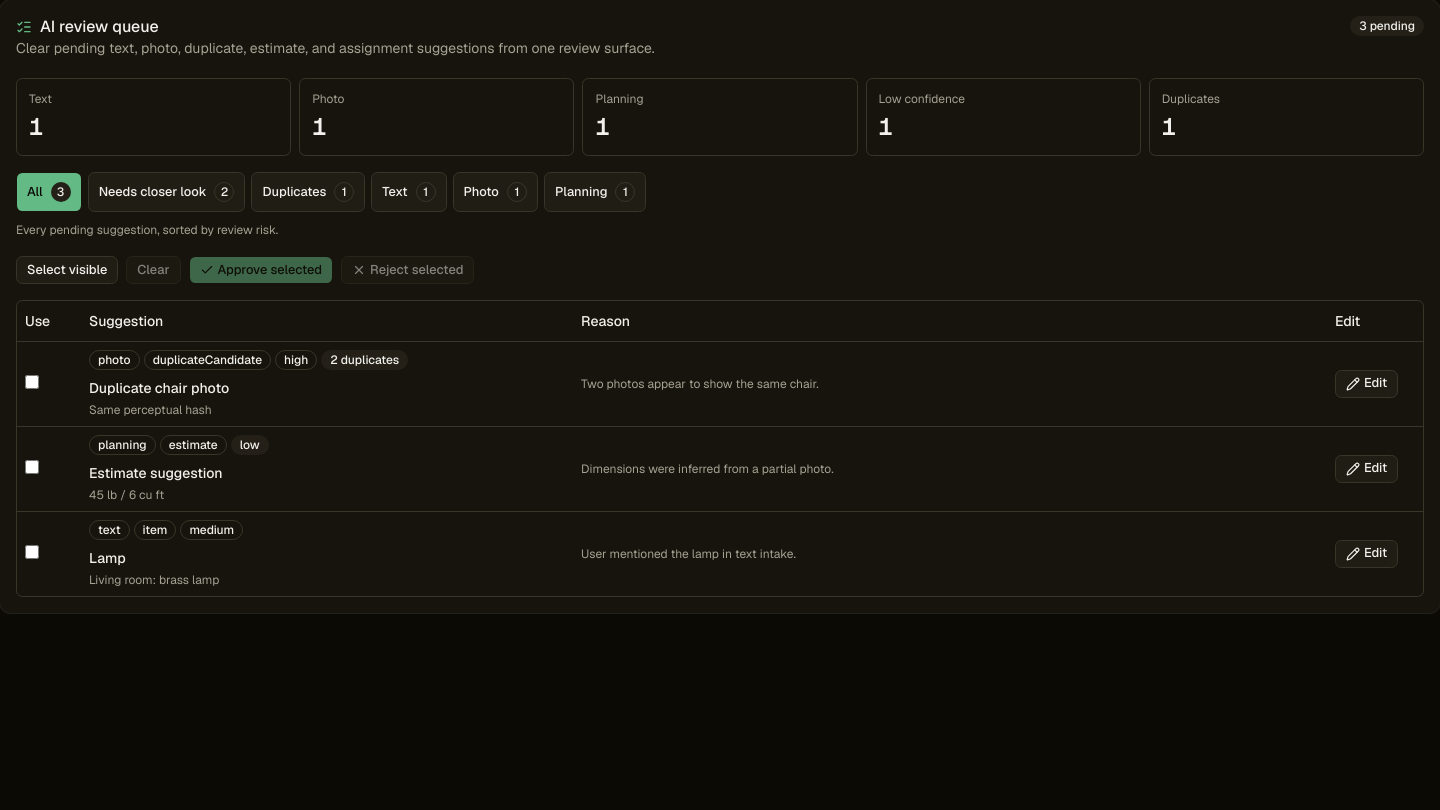
Test: AiReviewQueue responsive review surface › renders mobile review cards while keeping the desktop table controls
expect the column heading "Suggestion" is shown: met, box [81, 301, 573, 341]
expect the text "Every pending suggestion, sorted by review risk." is shown: met, box [16, 222, 278, 238]
Click the button with aria-label "Photo: 1 suggestion".
click(495, 192)  # box [453, 172, 538, 212]
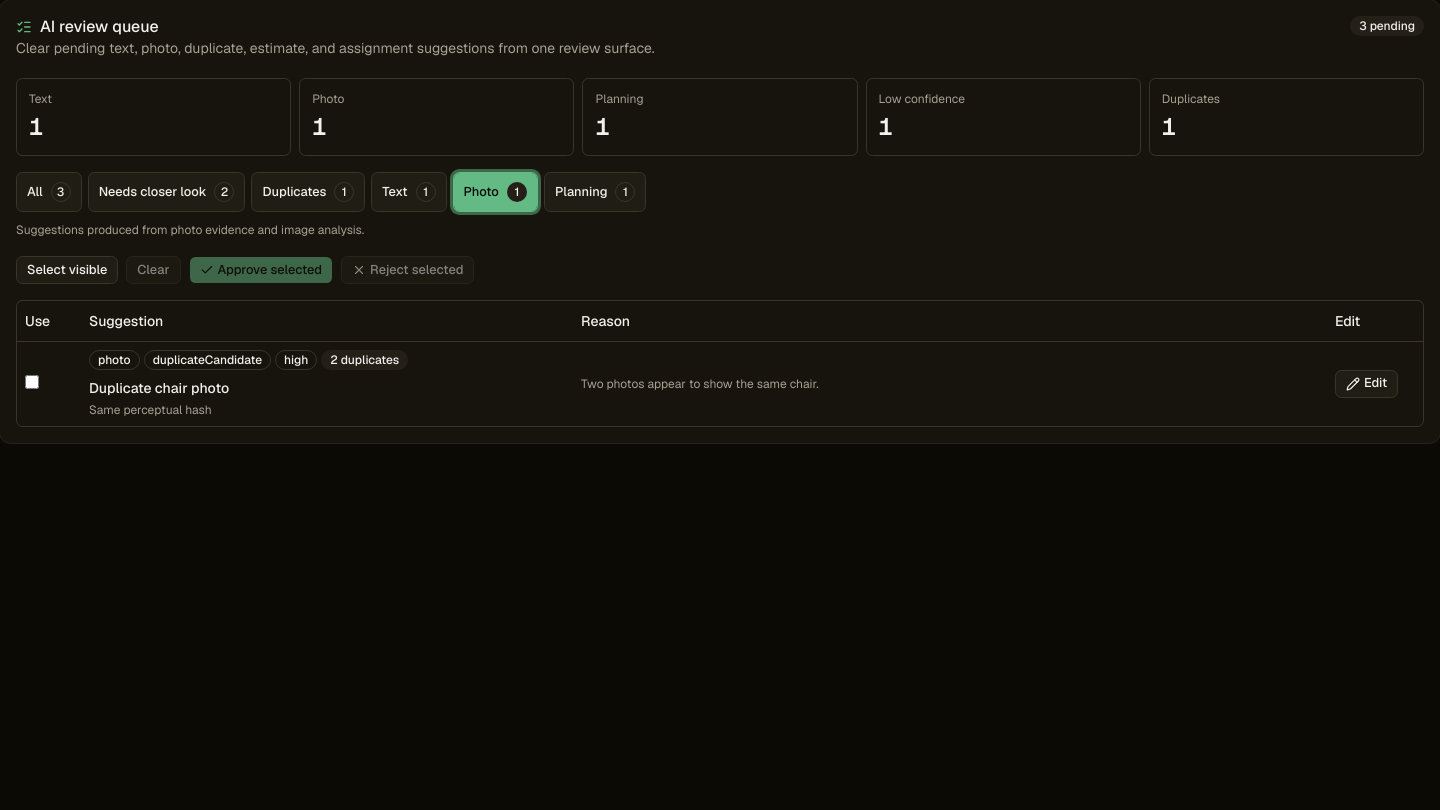
expect the text "Suggestions produced from photo evidence and image analysis." is shown: met, box [16, 222, 364, 238]
expect the text "Estimate suggestion" is gone: met
Click the button "Select visible".
click(67, 270)  # box [16, 256, 118, 284]
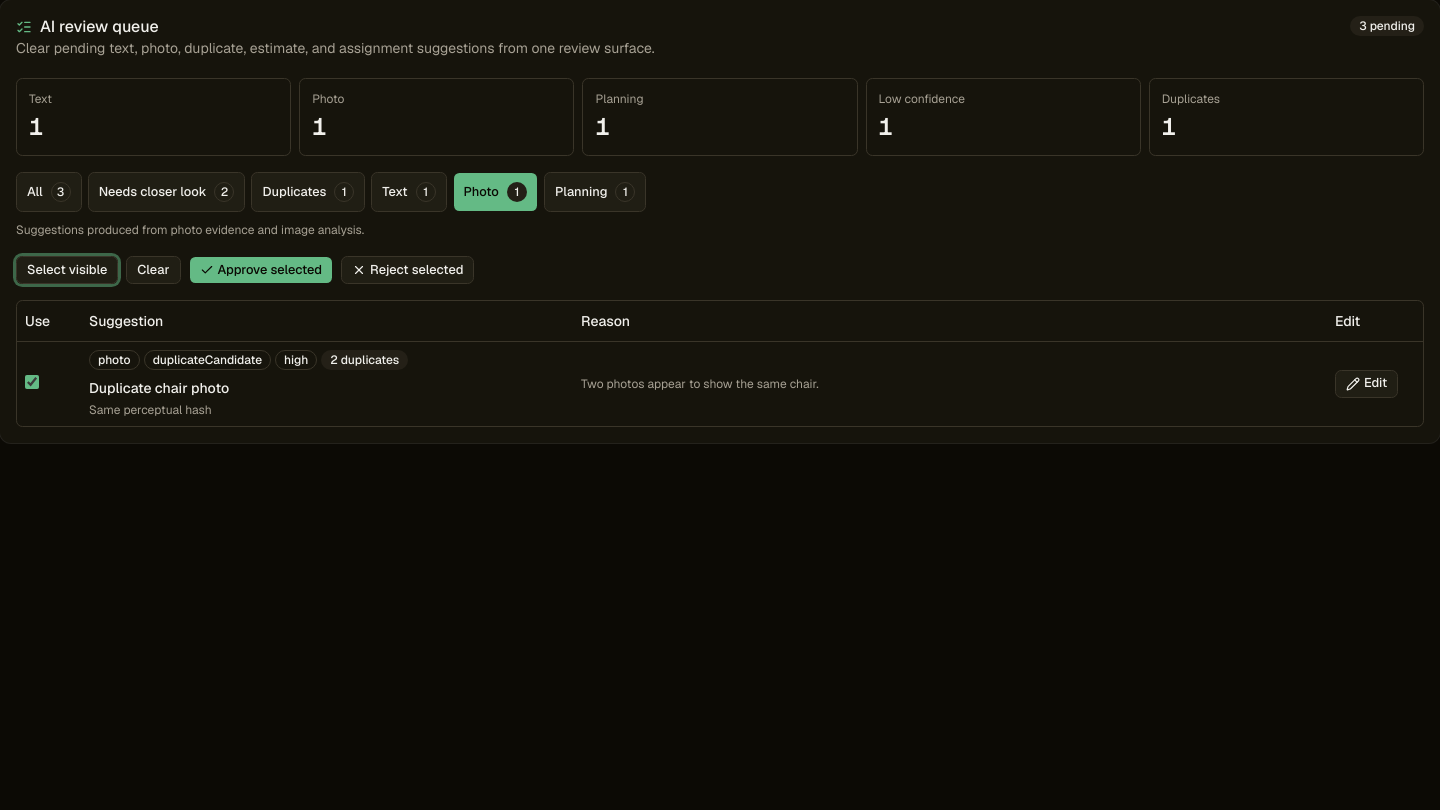
expect the checkbox named "Use Duplicate chair photo" is checked: met, box [25, 374, 39, 388]
